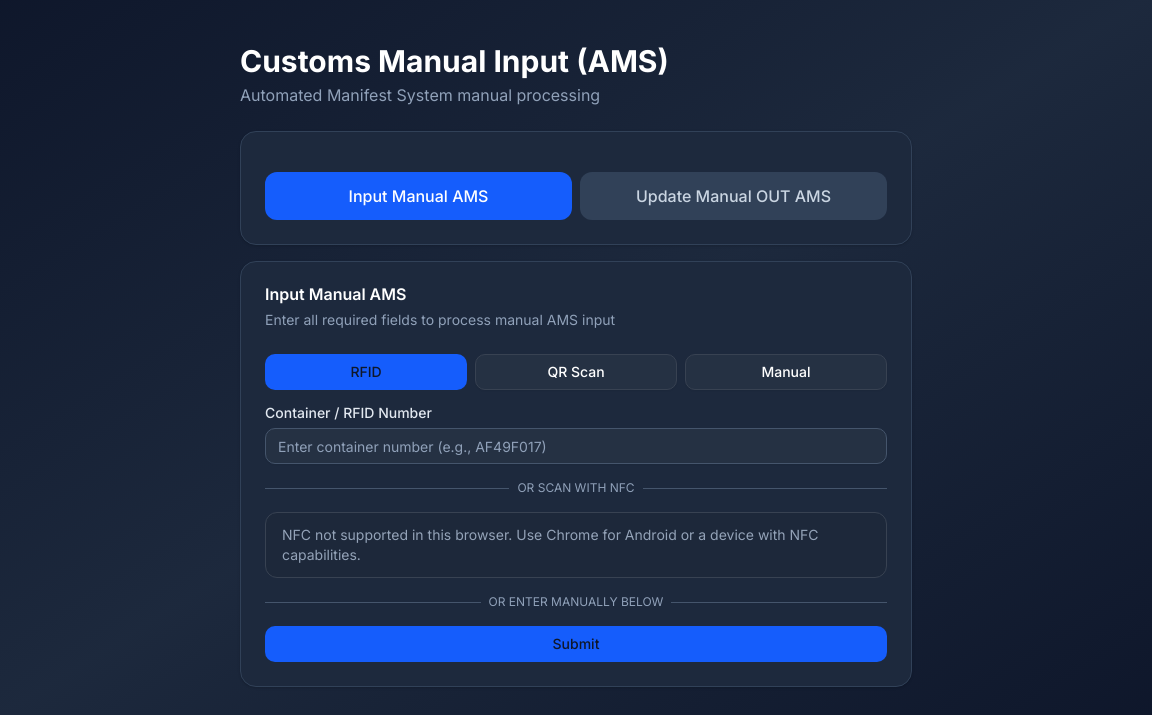
Test: CustomsPage › prefills transaction data from RFID lookup and leaves container combo editable
This screenshot has width=1152, height=715.
Type "2f:83:a2:80" into the field labelled "Container / RFID Number" at (576, 446), box [265,428,887,464]
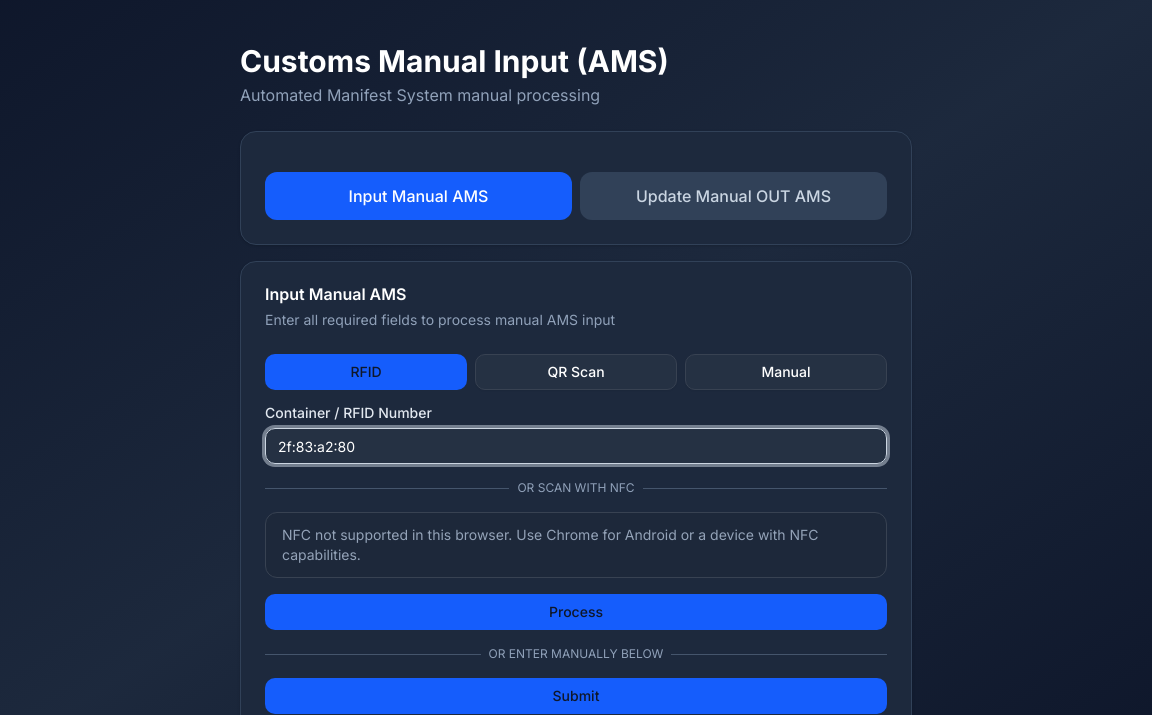
Click the button "Process" at (576, 612), box [265,594,887,630]
(page scrolled)
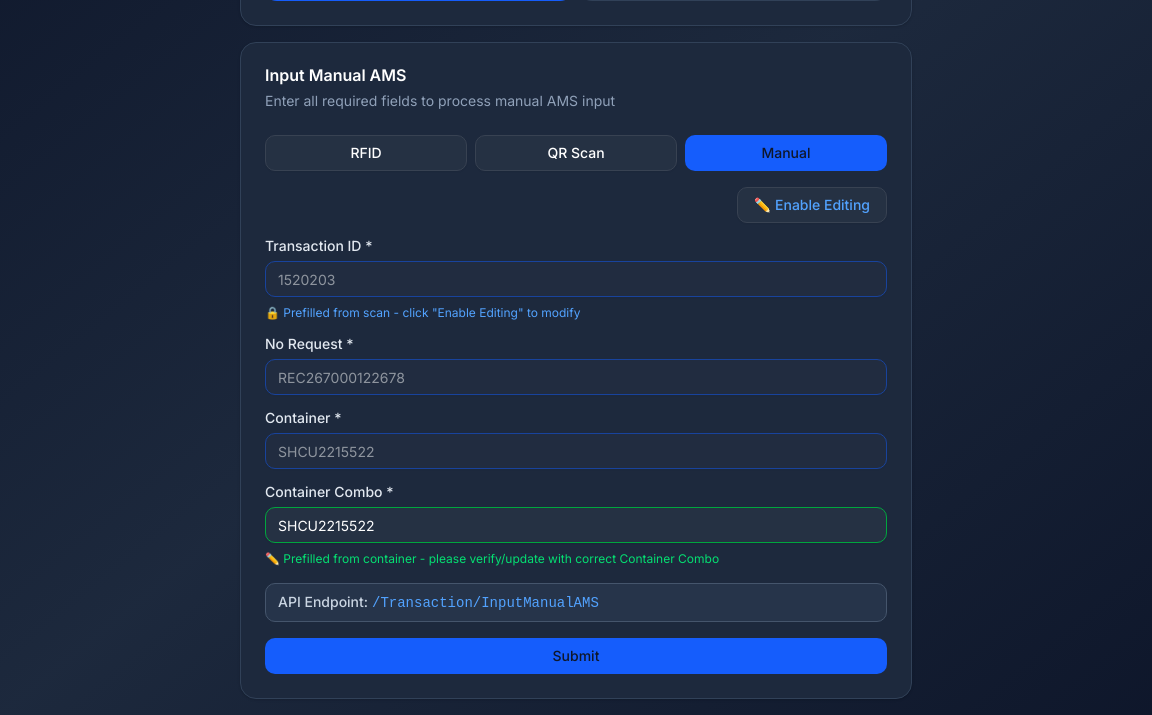
Check: the number field labelled "Transaction ID *" holds "1520203", box [265,261,887,297]
Check: the number field labelled "Transaction ID *" is disabled, box [265,261,887,297]
Check: the field labelled "No Request *" holds "REC267000122678", box [265,359,887,395]
